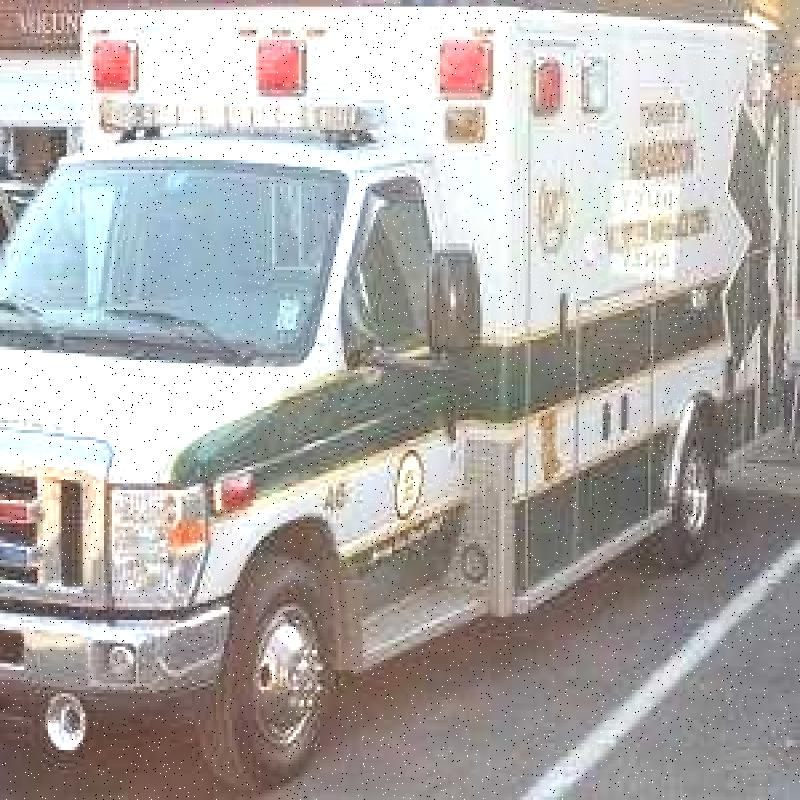AmbulanceSiren: (69, 38, 473, 149)
